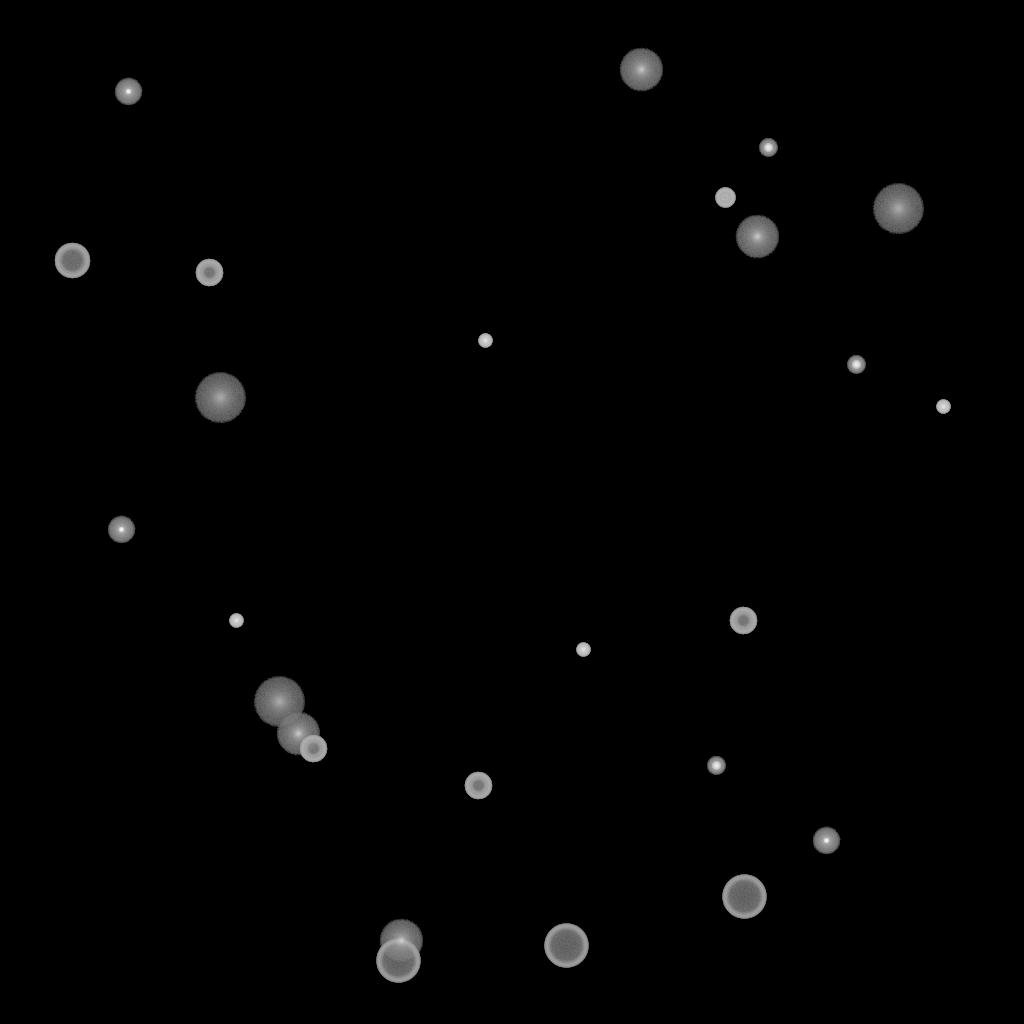depth:-10: (107, 516, 135, 544), (812, 827, 840, 855), (114, 78, 142, 106)
depth:-20: (759, 139, 777, 157), (707, 757, 725, 775), (847, 356, 865, 374)
depth:-30: (229, 614, 243, 628), (576, 643, 590, 657), (478, 334, 492, 348), (936, 400, 950, 414)
depth:-40: (715, 188, 735, 208)
depth:-50: (299, 735, 327, 763), (195, 259, 223, 287), (464, 772, 492, 800), (729, 607, 757, 635)
depth:-60: (54, 243, 90, 279)
depth:-70: (376, 939, 420, 983), (722, 875, 766, 919), (544, 924, 588, 968)
depth:10: (735, 215, 779, 259), (619, 48, 663, 92), (276, 712, 320, 756), (379, 919, 423, 963)
depth:20: (194, 373, 246, 423), (872, 184, 924, 234), (253, 677, 305, 727)
